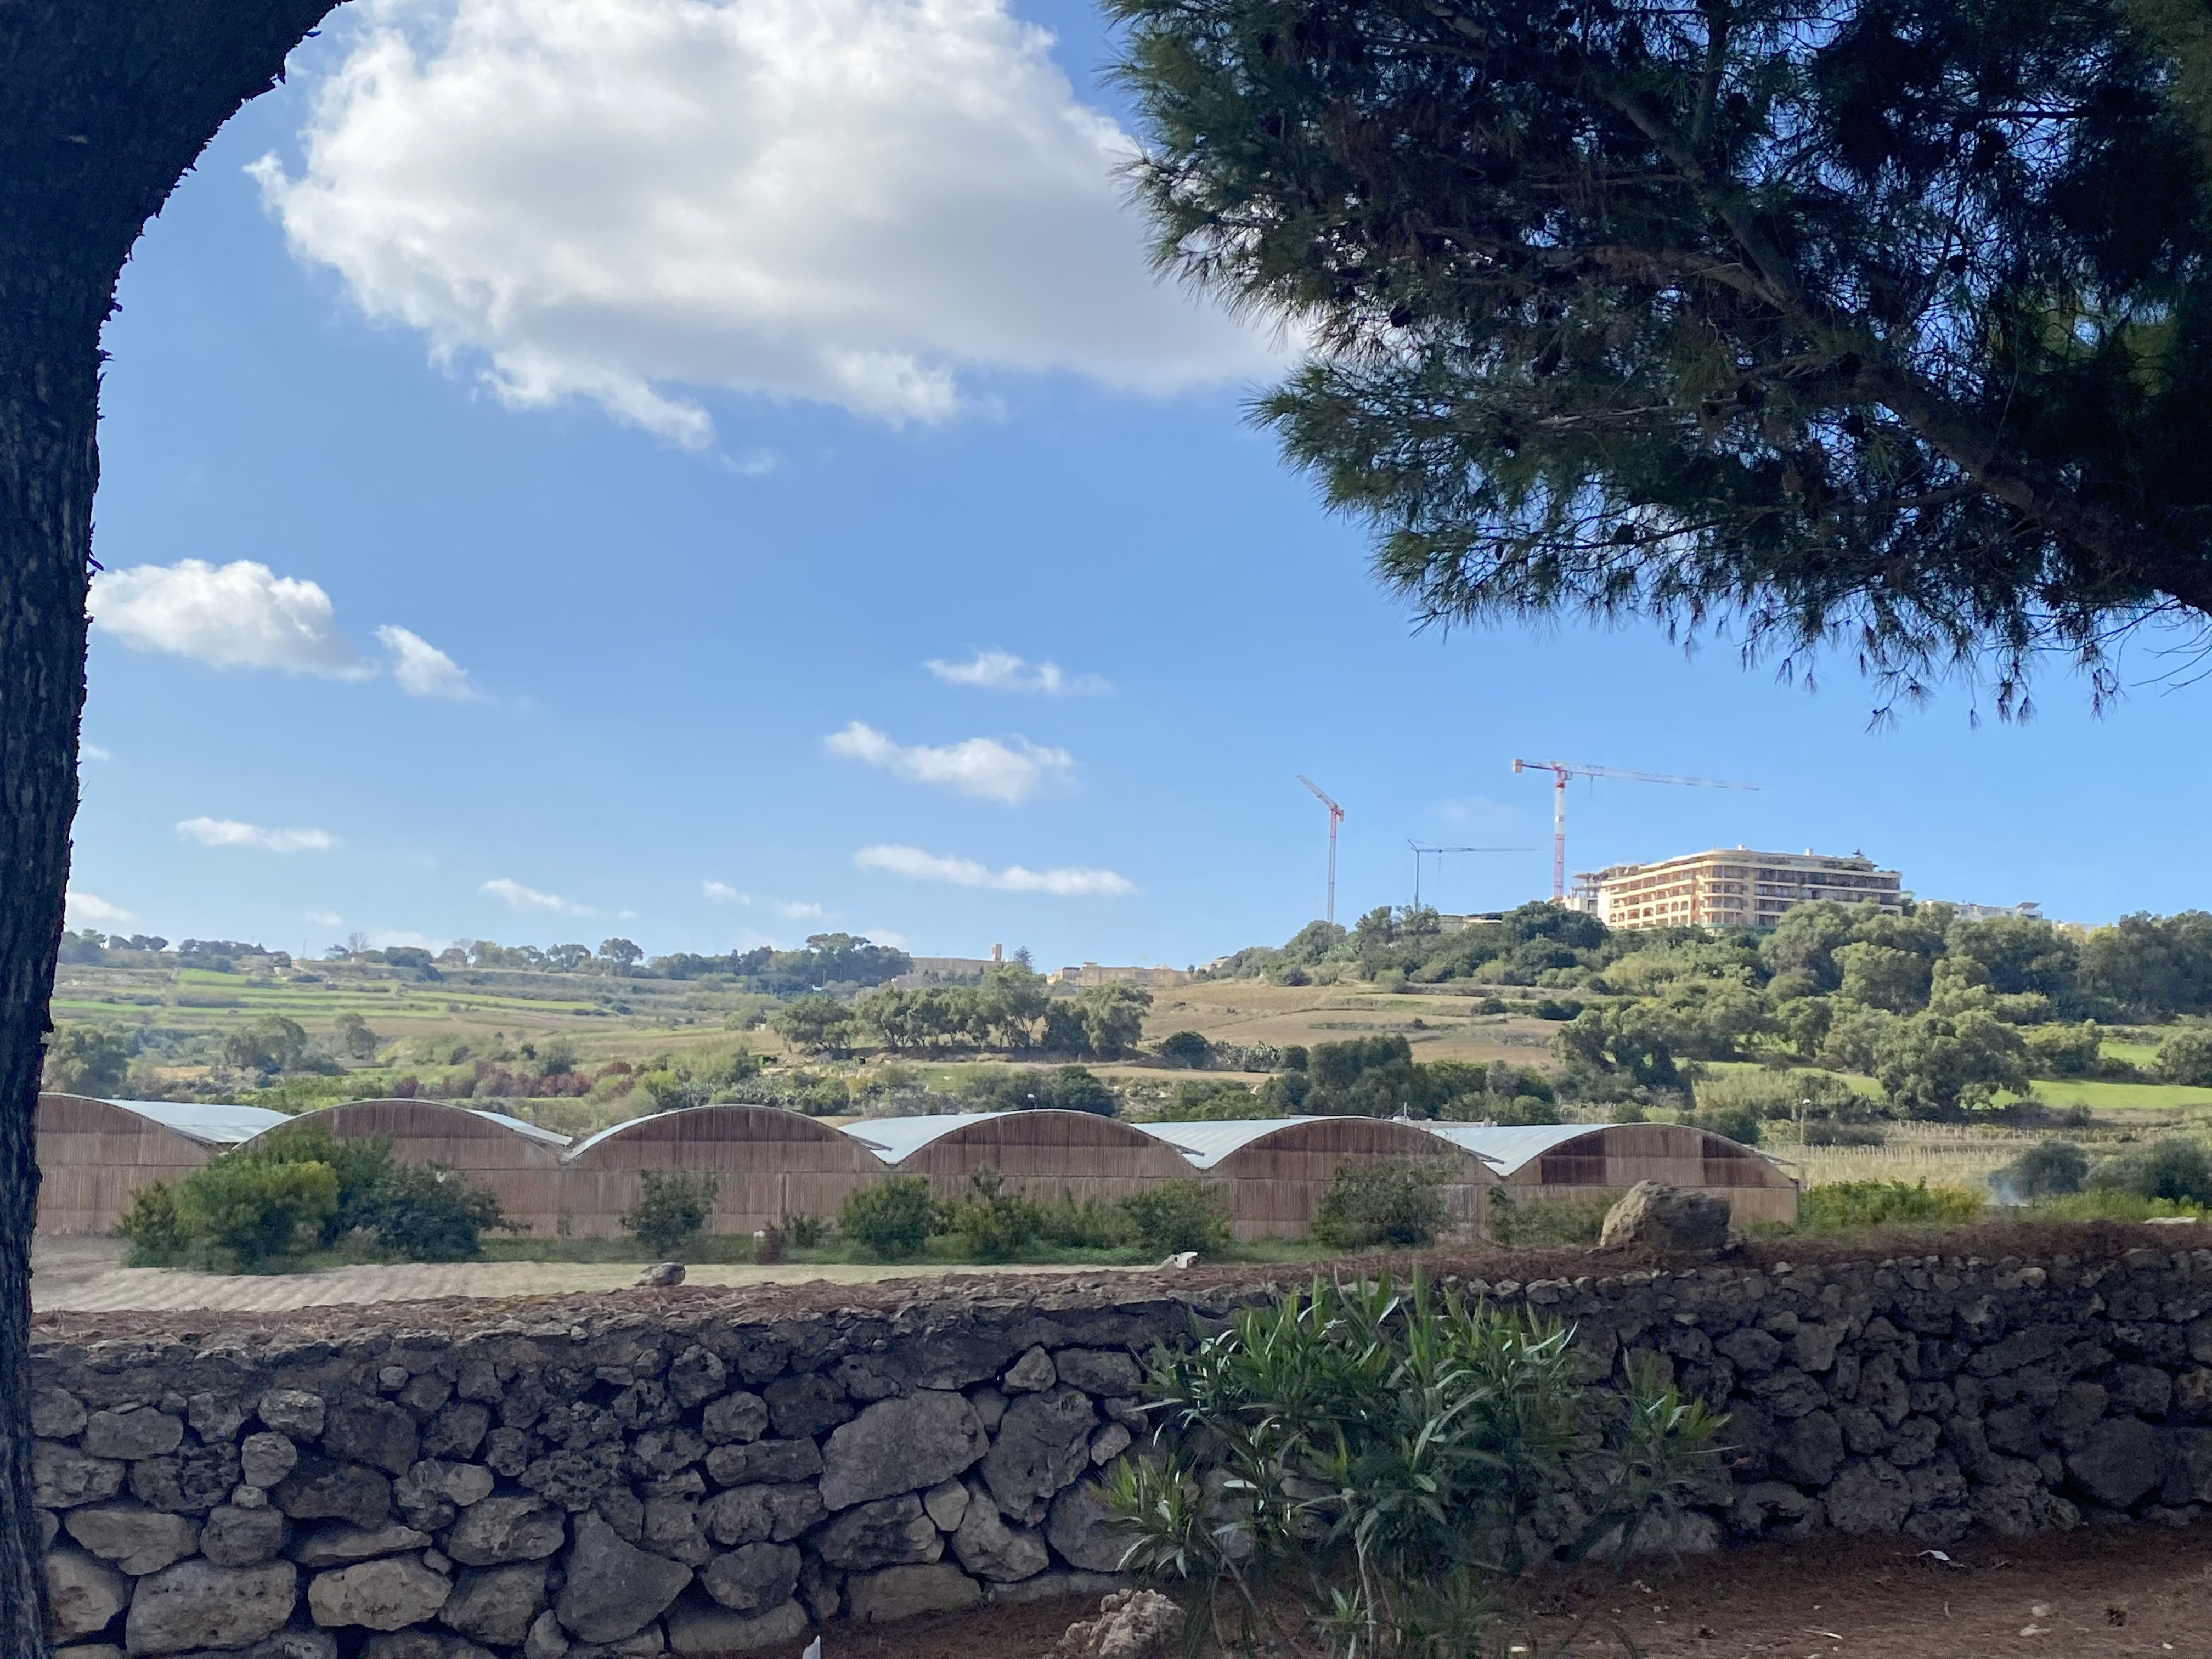crane: (1495, 725, 1820, 842), (1289, 764, 1375, 891)
